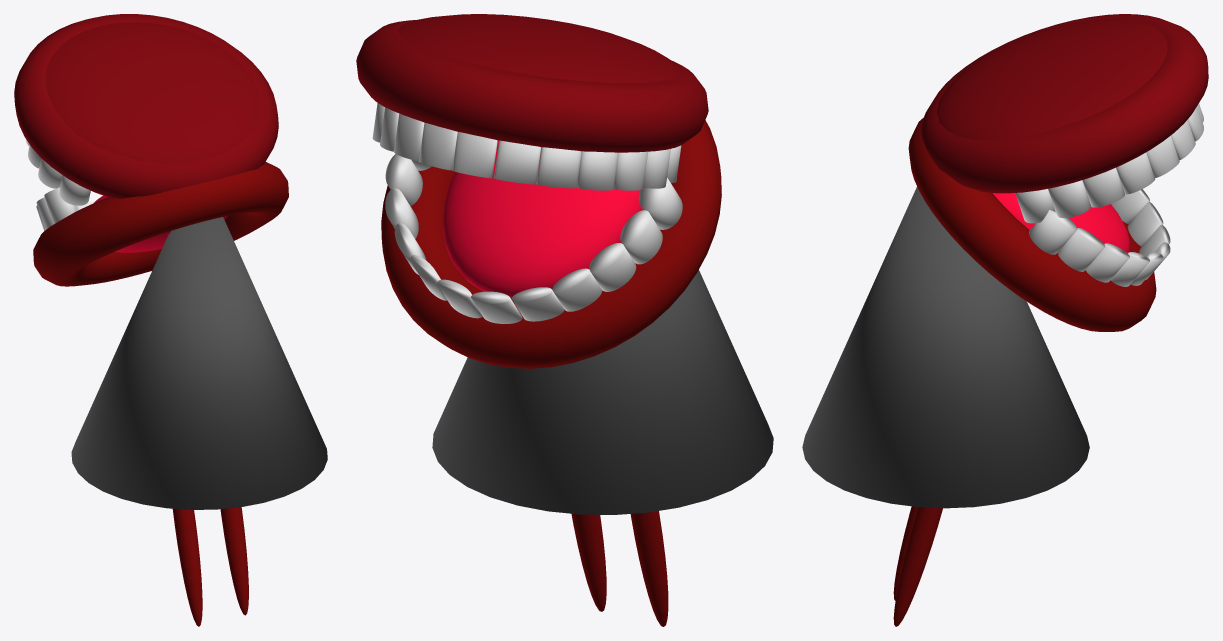
The model's file is 口Enemy.fbx.
3 views of the same model, side by side, from view 1: azimuth 30°, elevation 25°; view 2: azimuth 150°, elevation 25°; view 3: azimuth 270°, elevation 25° (orthographic). The views are drawn at different scales.
Parts seen in each view (by area): view 1: 円錐, 球.001, トーラス.004, トーラス.001, 球.002, 球.003, 円柱.007, 円柱.005, 球, 円柱.008; view 2: 円錐, トーラス.001, トーラス.004, 球, 球.001, 円柱.013, 円柱.004, 円柱.012, 球.002, 円柱.003, 円柱.011, 球.003 (+7 smaller); view 3: 円錐, トーラス.001, 球.001, トーラス.004, 球.003, 球, 円柱.002, 円柱.005, 円柱.001, 円柱.004, 円柱.008, 円柱.009 (+7 smaller).
Boxes of the visible parts, <box> form: 円錐: <box>71,217,327,509</box>; 球.001: <box>45,22,260,162</box>; トーラス.004: <box>33,162,288,286</box>; トーラス.001: <box>14,14,278,198</box>; 球.002: <box>172,508,202,626</box>; 球.003: <box>220,507,248,615</box>; 円柱.007: <box>59,175,90,205</box>; 円柱.005: <box>44,187,76,223</box>; 球: <box>94,195,228,252</box>; 円柱.008: <box>38,158,62,188</box>; 円錐: <box>432,270,773,514</box>; トーラス.001: <box>356,20,708,152</box>; トーラス.004: <box>381,120,721,368</box>; 球: <box>443,140,642,298</box>; 球.001: <box>398,14,683,83</box>; 円柱.013: <box>419,122,497,178</box>; 円柱.004: <box>385,154,662,264</box>; 円柱.012: <box>394,113,541,184</box>; 球.002: <box>630,511,668,626</box>; 円柱.003: <box>385,188,636,291</box>; 円柱.011: <box>380,107,581,188</box>; 球.003: <box>571,513,606,611</box>; 円錐: <box>802,187,1089,508</box>; トーラス.001: <box>921,14,1208,193</box>; 球.001: <box>936,19,1167,141</box>; トーラス.004: <box>908,118,1156,331</box>; 球.003: <box>893,507,942,626</box>; 球: <box>992,193,1130,253</box>; 円柱.002: <box>1110,189,1149,286</box>; 円柱.005: <box>1029,210,1077,254</box>; 円柱.001: <box>1127,201,1163,285</box>; 円柱.004: <box>1057,228,1105,271</box>; 円柱.008: <box>1048,180,1091,217</box>; 円柱.009: <box>1082,167,1124,207</box>.
Size of the model in its own units: 250 by 524 by 339.
